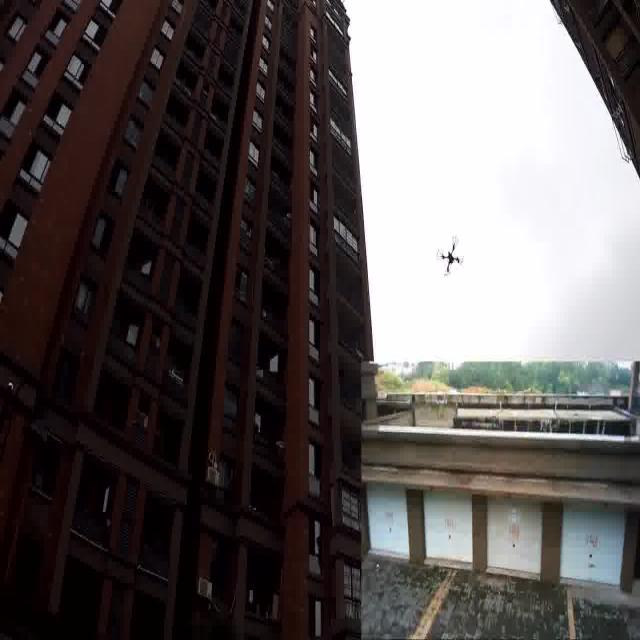drones: (433, 229, 468, 282)
